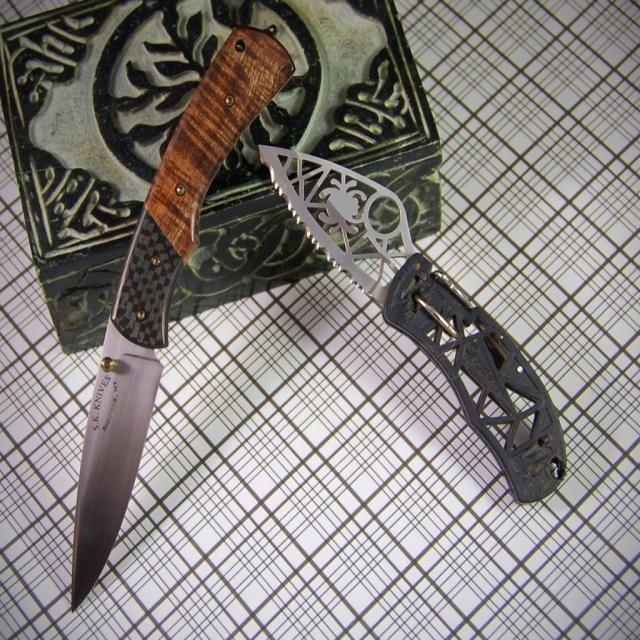Knife: (72, 29, 294, 608), (261, 146, 566, 502)
